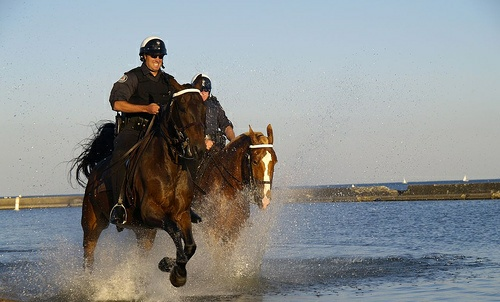without_mask: (140, 44, 167, 75), (194, 80, 212, 102)
